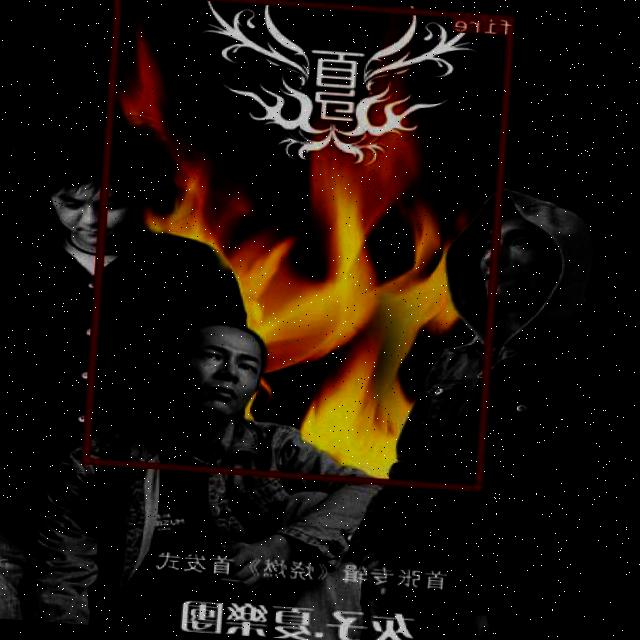fire: (82, 0, 516, 490)
